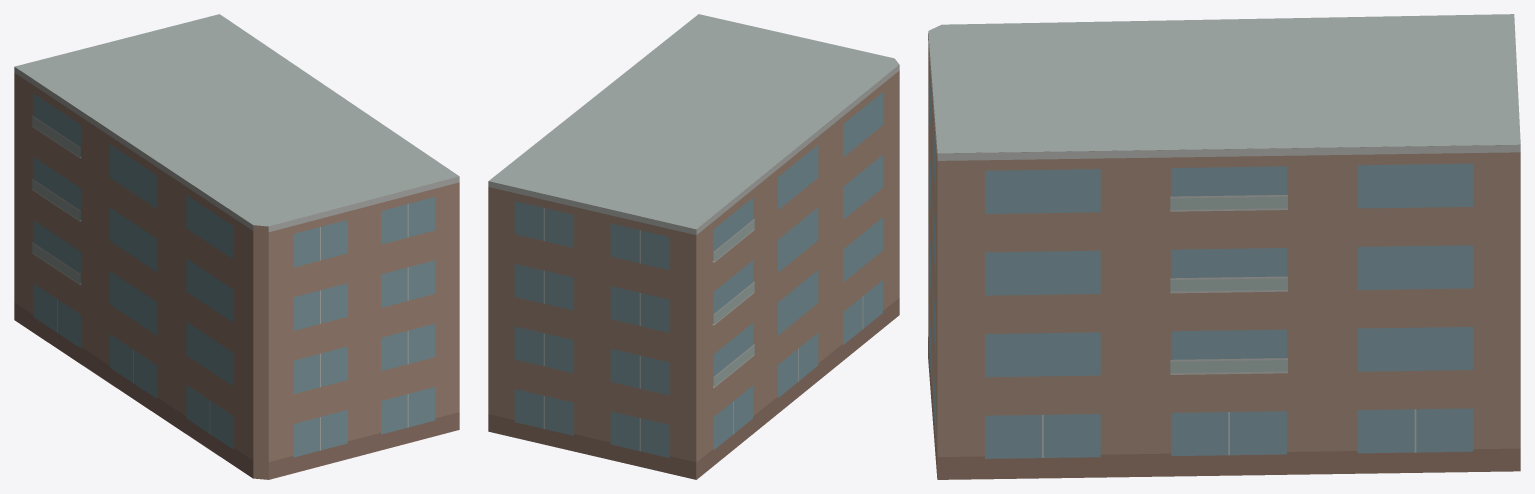
Rendered from survey-upis-32519998.glb.
3 renders of one model, left to right at view 1: azimuth 30°, elevation 25°; view 2: azimuth 150°, elevation 25°; view 3: azimuth 270°, elevation 25°, orthographic. The views are drawn at different scales.
Parts seen in each view (by area): view 1: survey-upis-32519998.tmp; view 2: survey-upis-32519998.tmp; view 3: survey-upis-32519998.tmp.
Boxes of the visible parts, x1,y1,x2,y2 form: survey-upis-32519998.tmp: (14, 14, 459, 479); survey-upis-32519998.tmp: (488, 14, 899, 479); survey-upis-32519998.tmp: (928, 14, 1520, 479).
Size of the model in its own units: 9.62 by 10.5 by 17.28.
